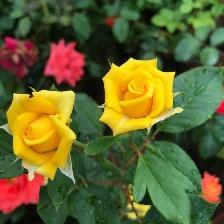rose: (100, 55, 186, 144), (6, 87, 79, 189)
